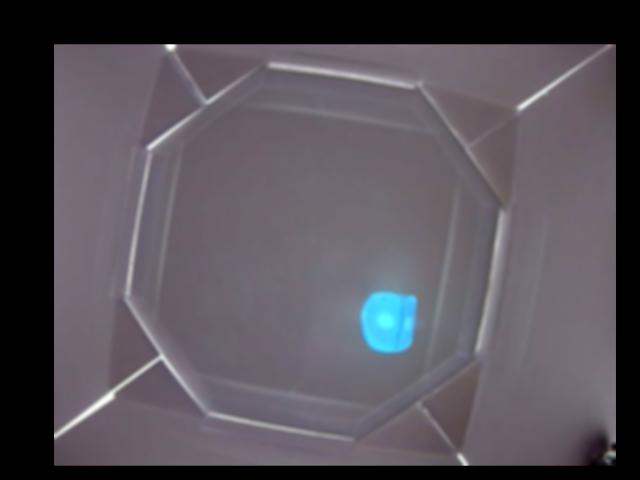Carrot: (363, 290, 417, 352)
